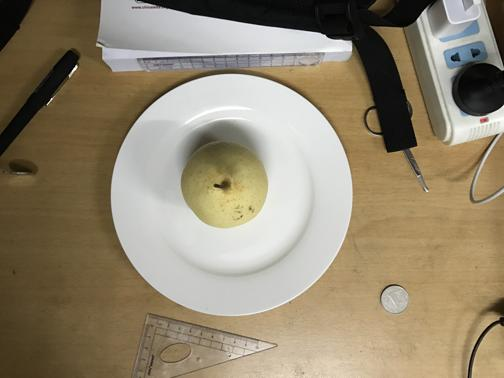coin: (378, 283, 410, 314)
pear: (179, 139, 268, 227)
